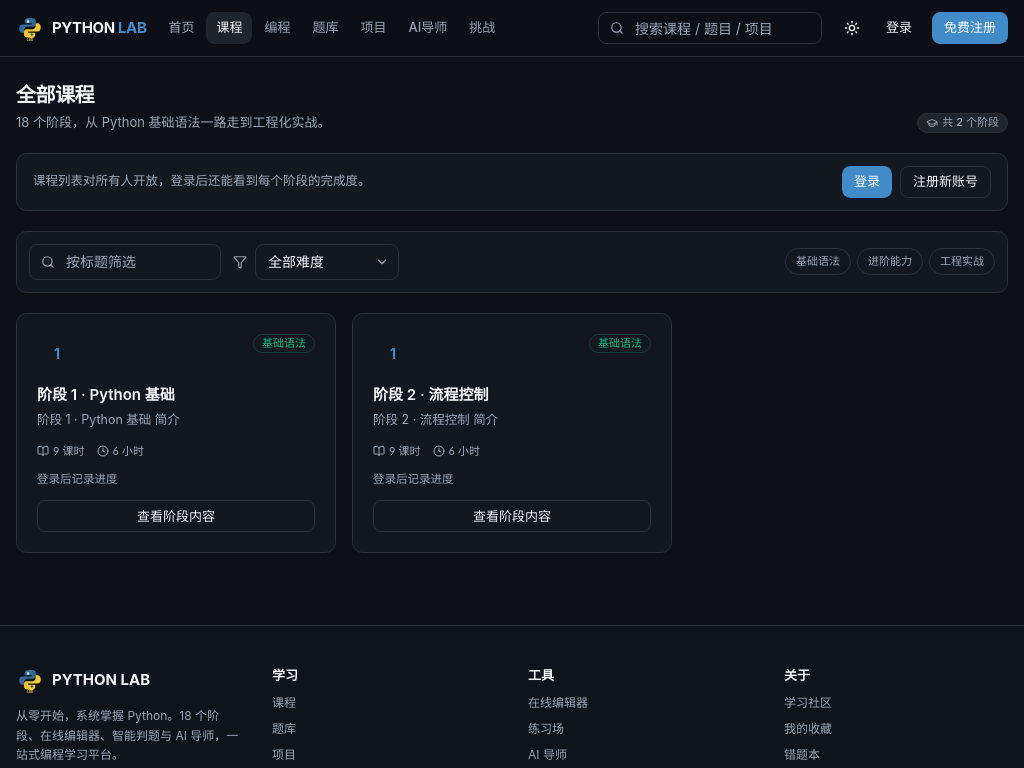
Test: courses · 公开列表（未登录） › 未登录仍可使用关键词筛选（客户端过滤，300ms 防抖后生效）
The image size is (1024, 768).
Expected: the heading "阶段 1 · Python 基础" is shown, top-left (37, 384), bottom-right (175, 404)
Step 1. Type "流程控制" into the field with placeholder "按标题筛选" → (125, 262), box top-left (29, 244), bottom-right (221, 280)
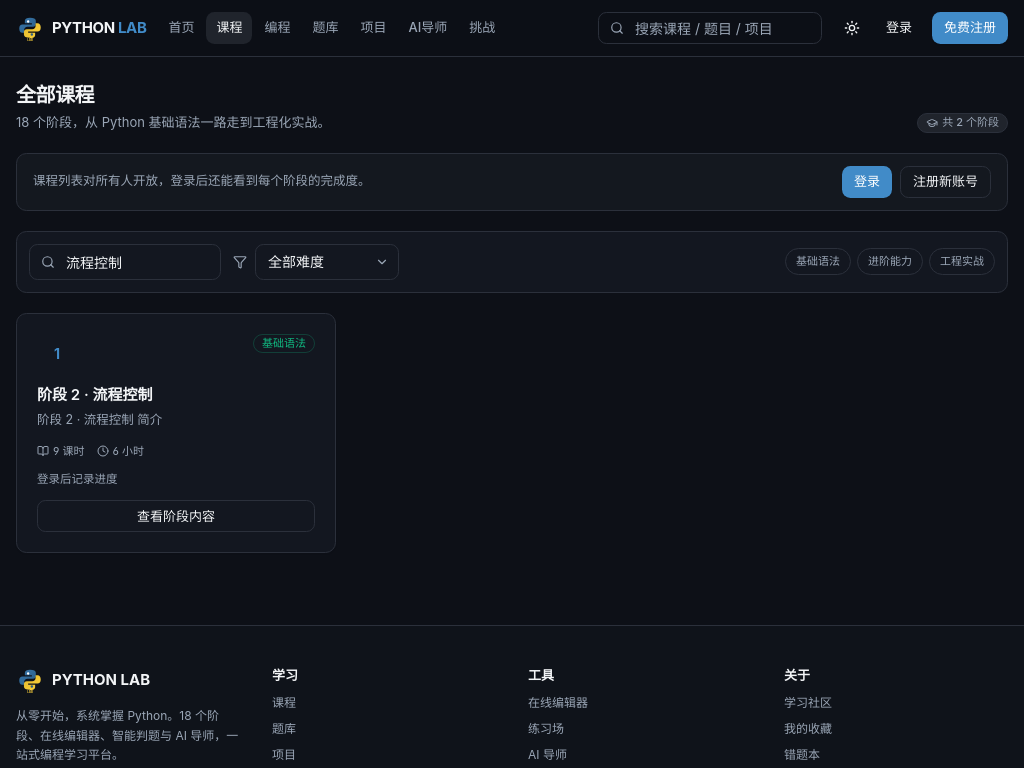
Expected: the heading "阶段 2 · 流程控制" is shown, top-left (37, 384), bottom-right (152, 404)
Result: the heading "阶段 1 · Python 基础" is gone
